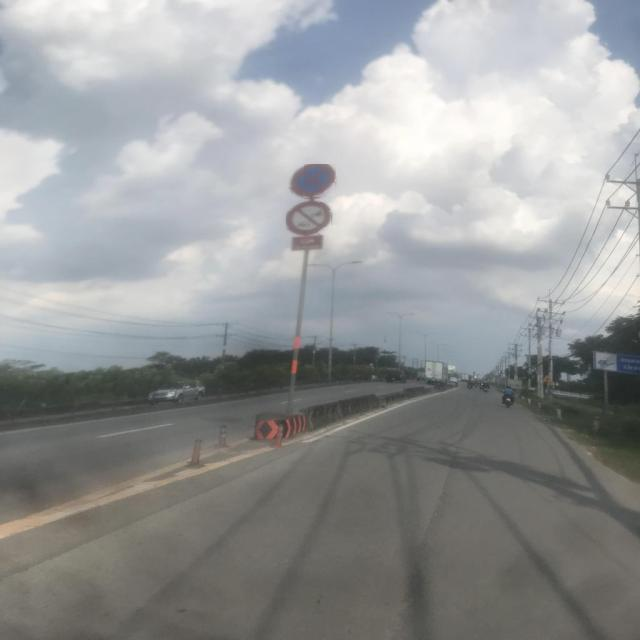cam_dung_xe_va_do_xe: (288, 164, 336, 200)
cam_xe_2_banh_va_xe_3_banh_co_dong_co: (286, 202, 332, 236)
giao_nhau_voi_duong_uu_tien: (542, 376, 551, 384)
